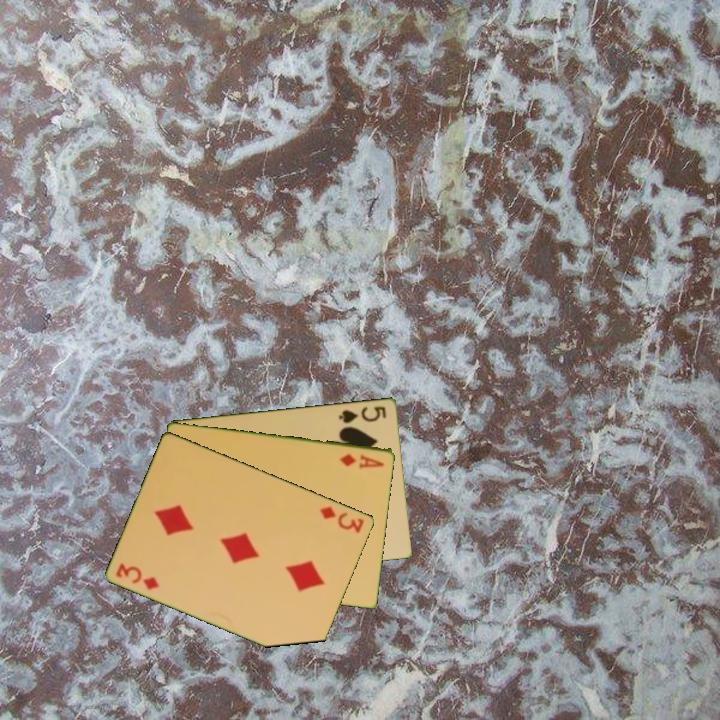3d: (316, 502, 367, 535), (113, 559, 162, 592)
5s: (336, 402, 389, 426)
Ad: (336, 450, 387, 471)
